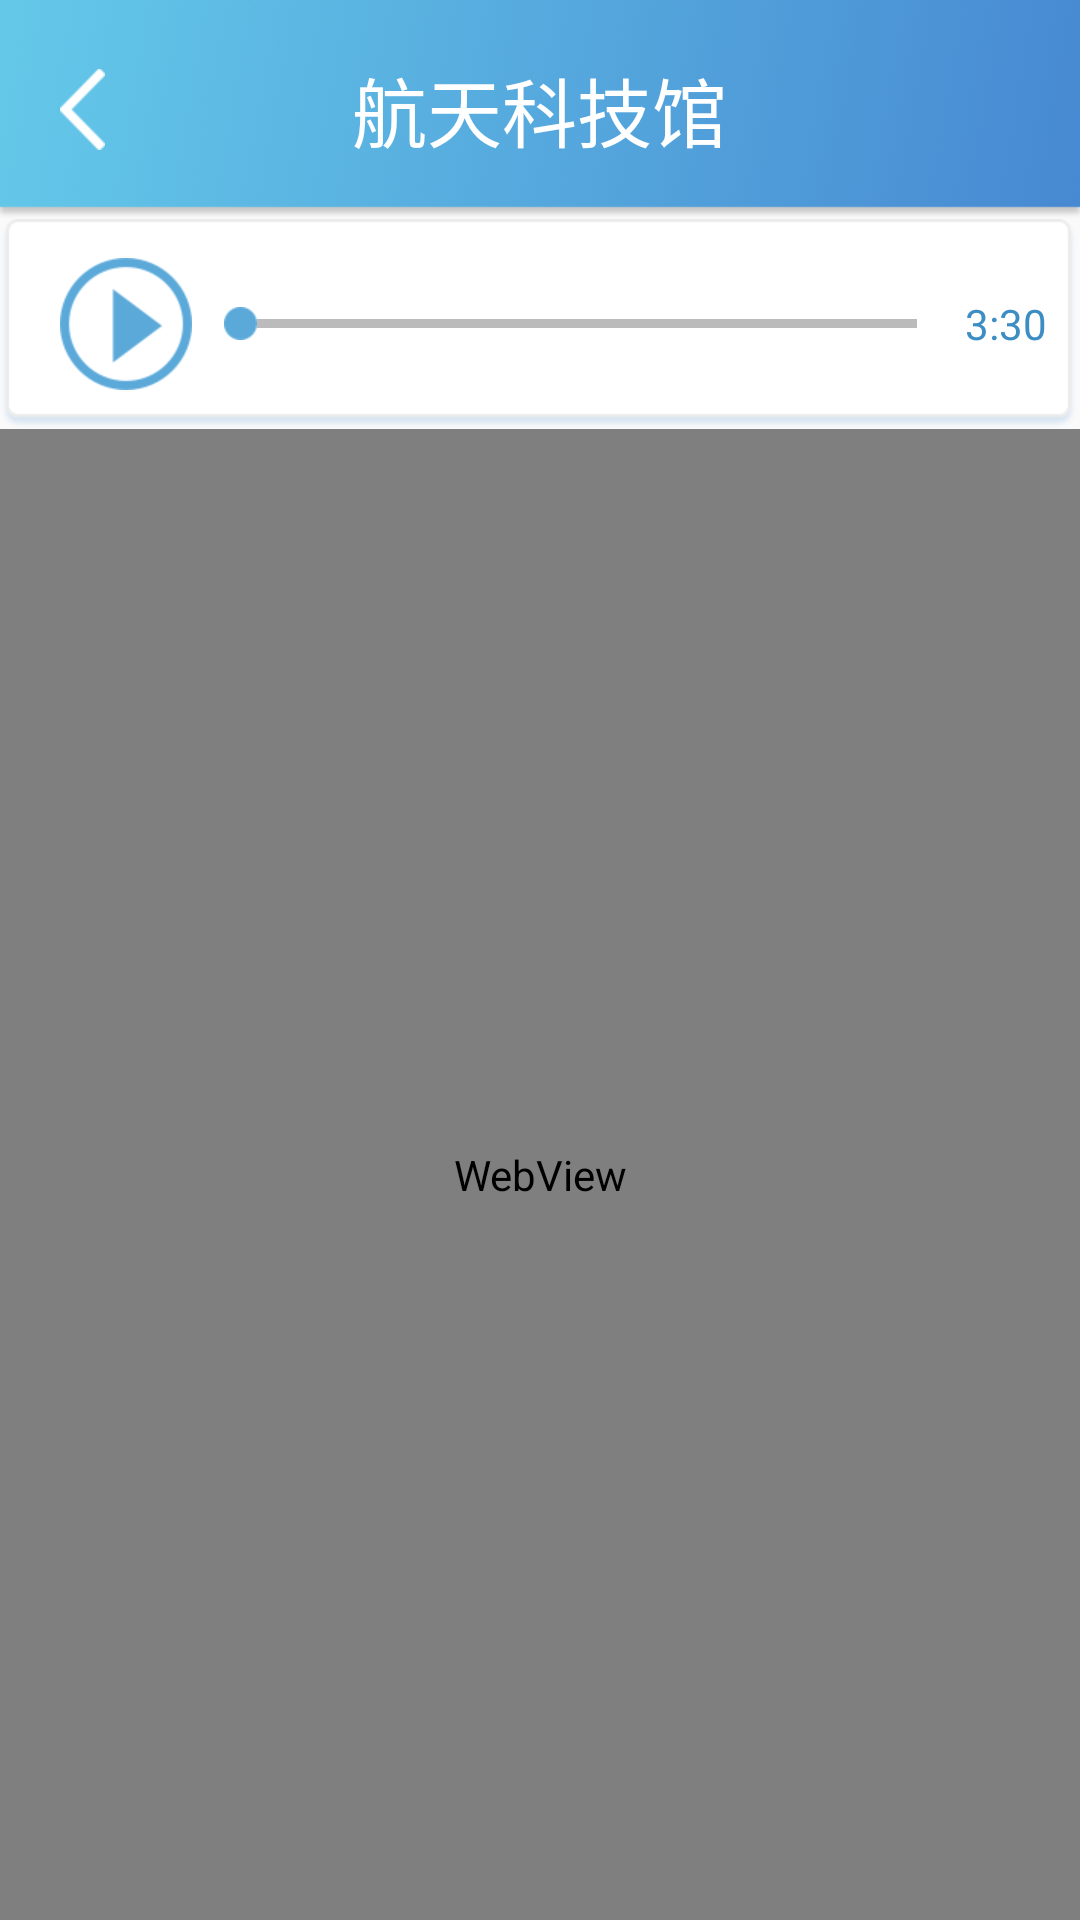

Screen size 1080px×1920px. Icon name, then its center in pixels as point (x, y):
back: point (82, 109)
play: point (126, 324)
